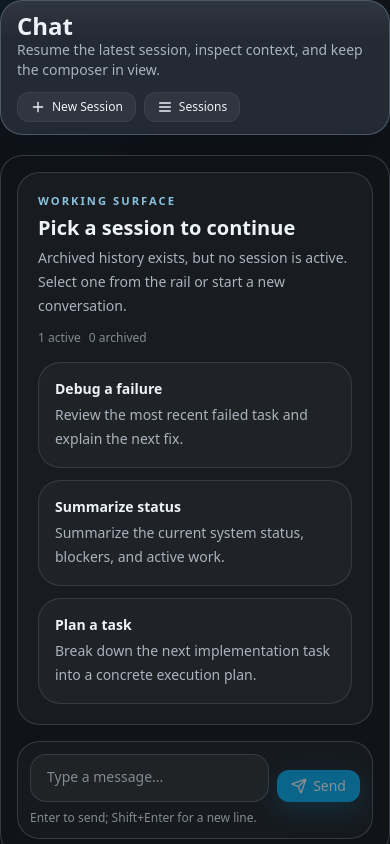
Test: Chat › opens session manager from the mobile action
The width and height of the screenshot is (390, 844).
Click the button with aria-label "Manage sessions" at (192, 107), box [144,92,240,122]
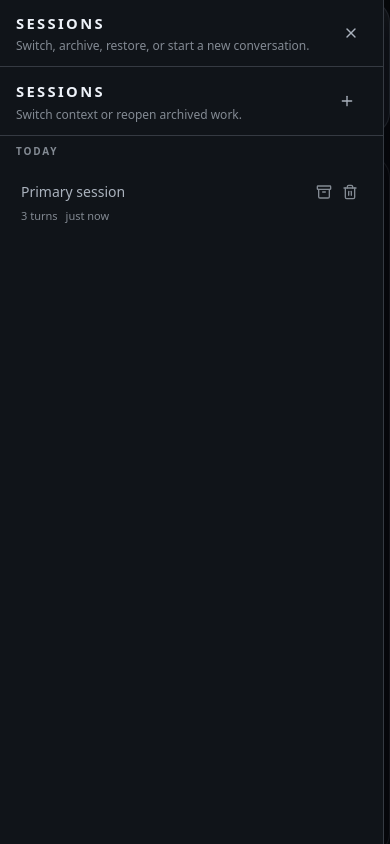
Check: the dialog named "Session manager" is shown
Check: the text "Primary session" is shown, box [21,182,125,202]
